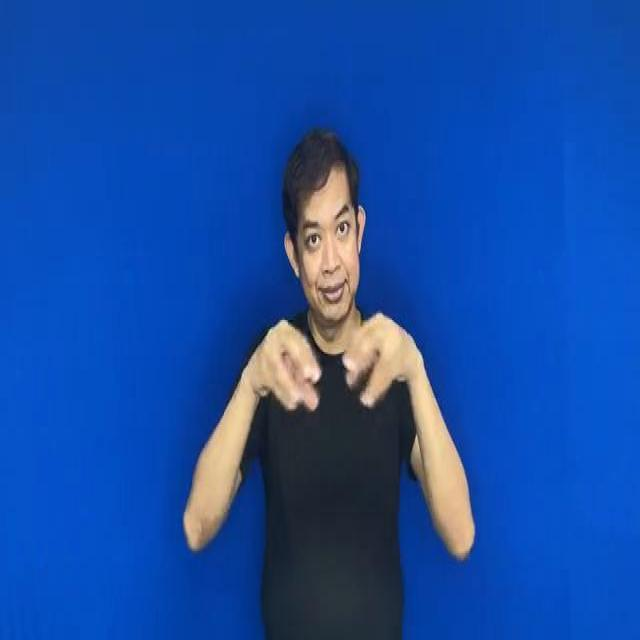egg: (233, 288, 424, 416)
